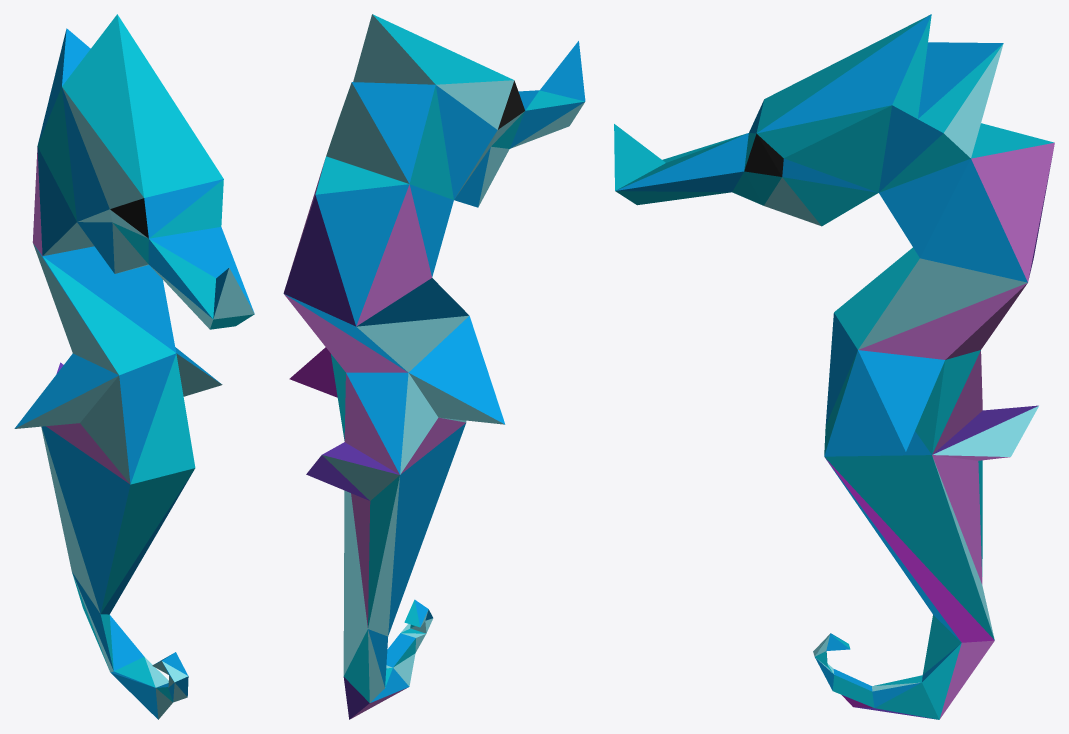
The model's file is seahorse.glb.
3 renders of one model, left to right at view 1: azimuth 30°, elevation 25°; view 2: azimuth 150°, elevation 25°; view 3: azimuth 270°, elevation 25°, orthographic. The views are drawn at different scales.
Parts seen in each view (by area): view 1: group1580007276; view 2: group1580007276; view 3: group1580007276.
Part boxes in pixels (x1,y1,x2,y2): group1580007276: (14,14,254,719); group1580007276: (283,14,585,719); group1580007276: (614,14,1054,719).
Size of the model in its own units: 0.1999 by 0.6251 by 0.3584.
